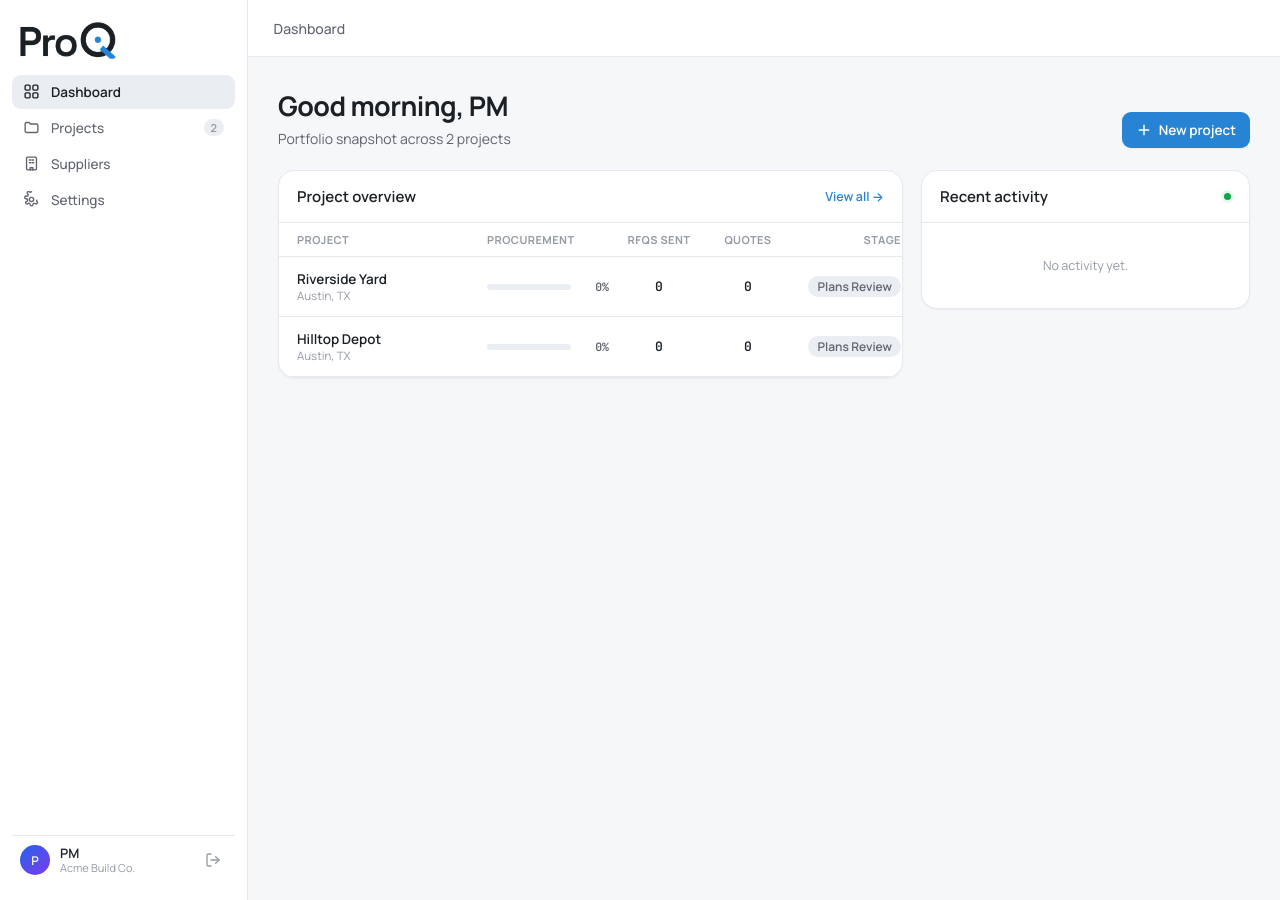
Test: project lifecycle › drops a deleted project from the list immediately
Click the text "Hilltop Depot" at (339, 339), box [297,330,381,348]
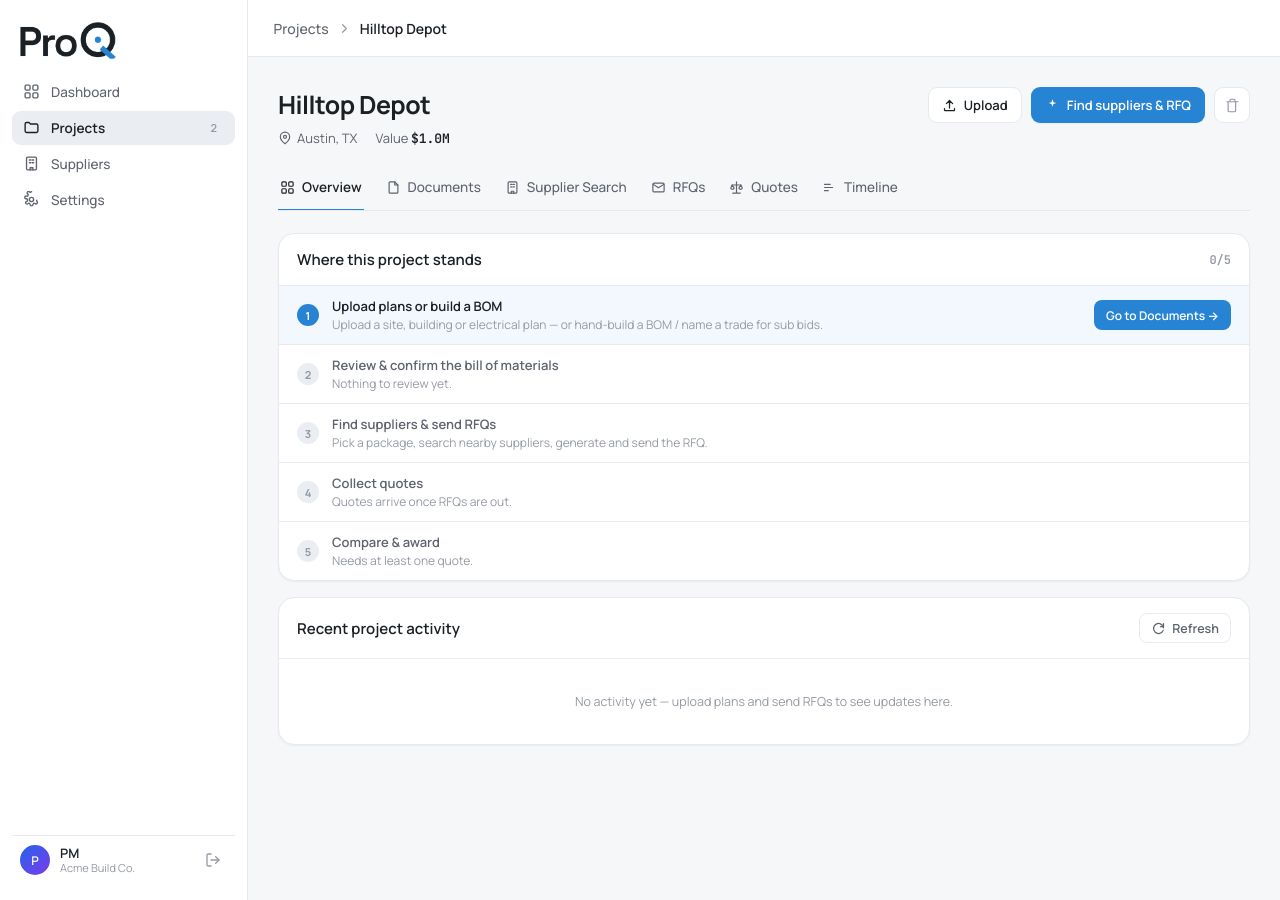
Click the button titled "Delete project" at (1232, 105), box [1214,87,1250,123]
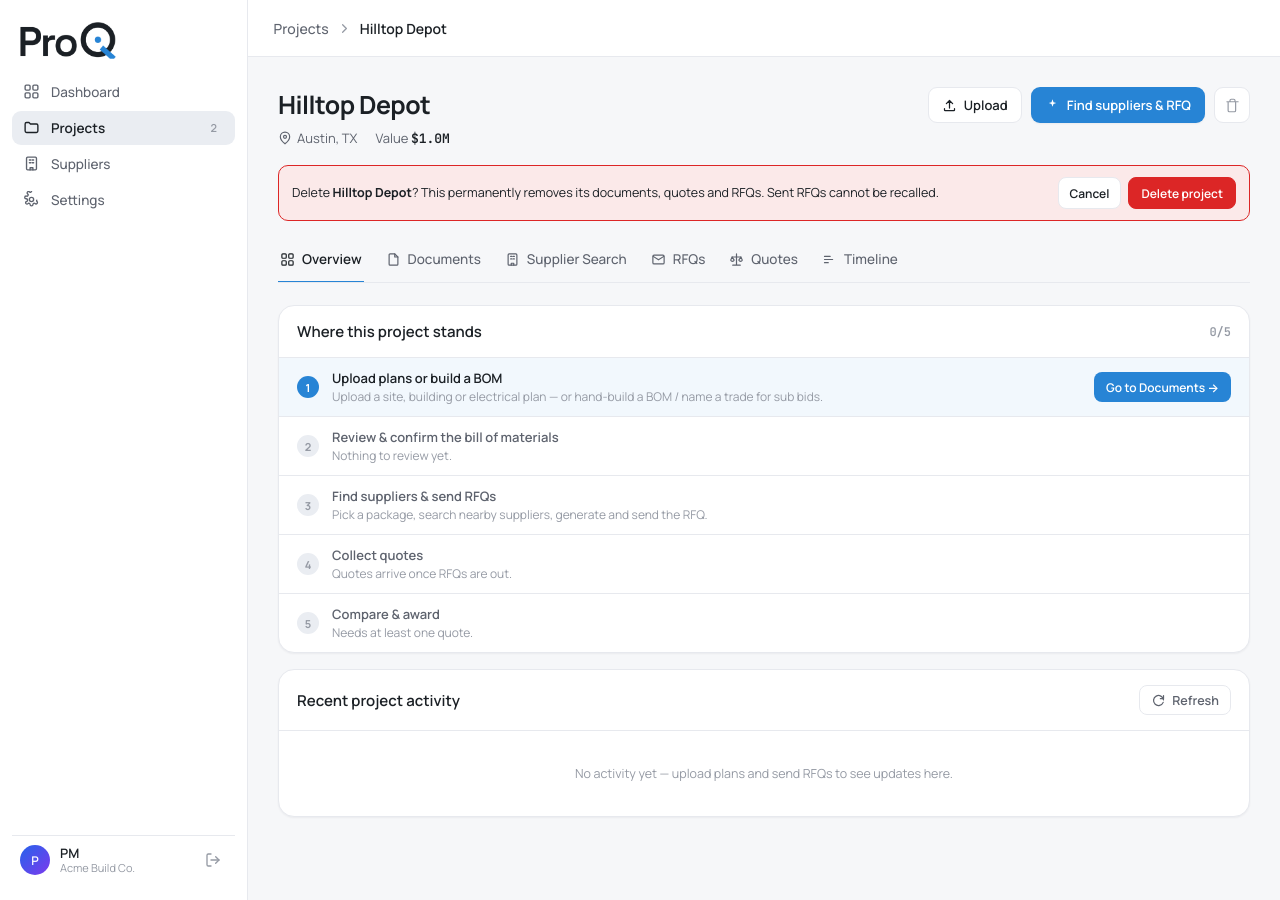
Click the button "Delete project" at (1182, 193), box [1128,177,1236,209]
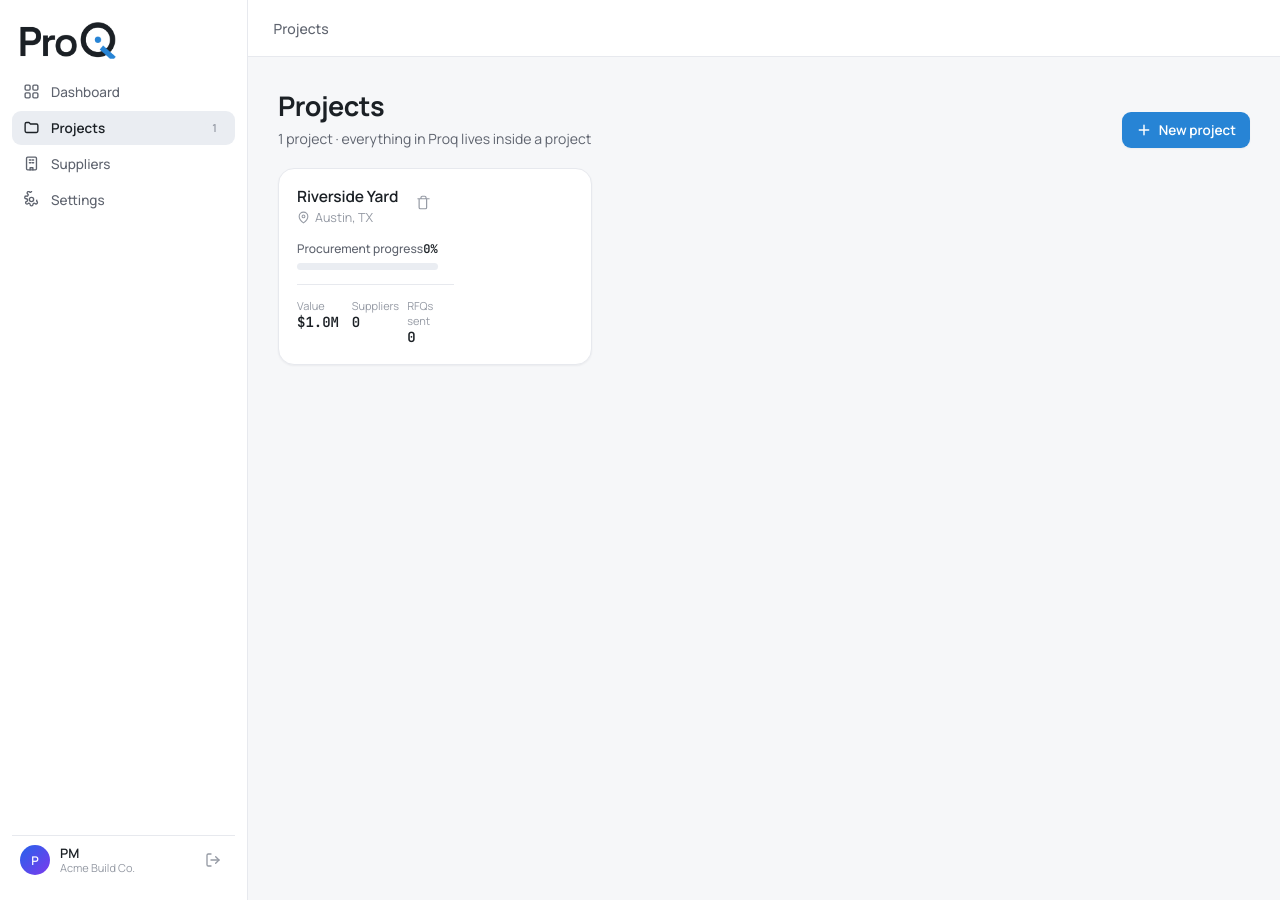
Expected: the text "Hilltop Depot" is gone
Expected: the text "Riverside Yard" is shown, [297,187,398,206]
